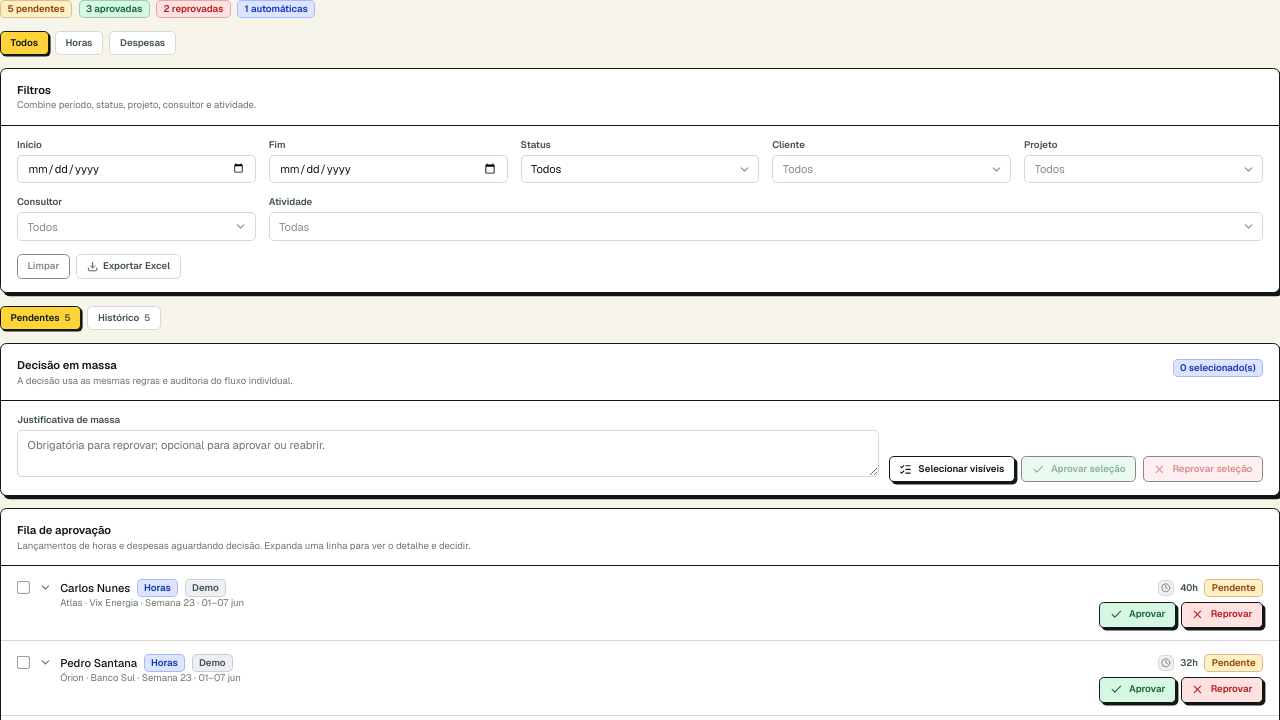
Test case: ApprovalQueue › approves a pending item inline with local feedback
Expected: the text "5 pendentes" is shown, [0,0,72,18]
Step 1. Click the button "Aprovar" below "40h" → [1138, 615], box [1099,602,1176,628]
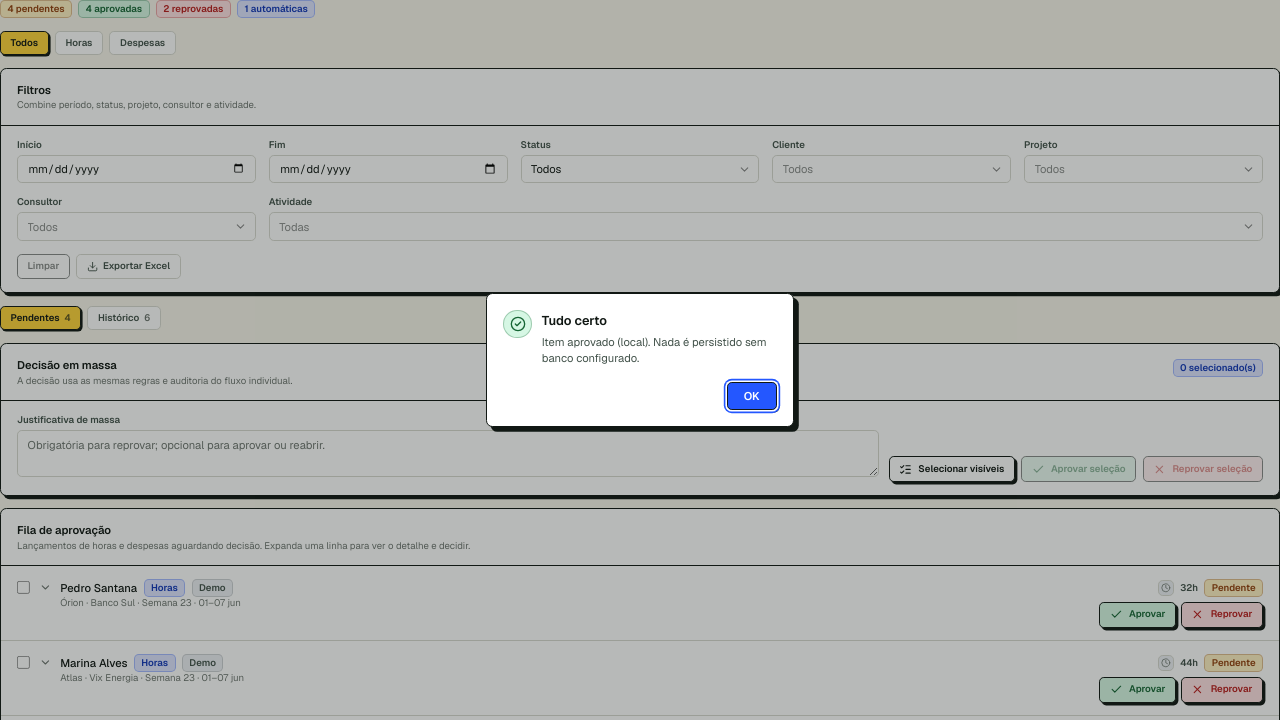
Result: the text "aprovado (local)" is shown at [542,335,767,365]
Result: the text "4 pendentes" is shown at [0,0,72,18]
